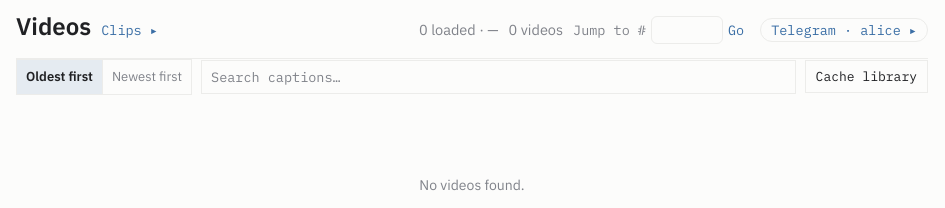
App sort control › disables the sort control while a search term is active
The image size is (945, 208).
Type "sunset" into the search field named "Search videos".
click(498, 77); type("sunset")  # box x1=201 y1=60 x2=796 y2=94
Wait 300 ms
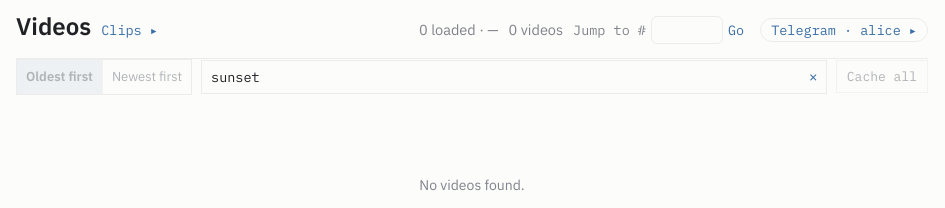
Now the button "Oldest first" is disabled, box x1=17 y1=60 x2=102 y2=94
Now the button "Newest first" is disabled, box x1=102 y1=60 x2=191 y2=94
